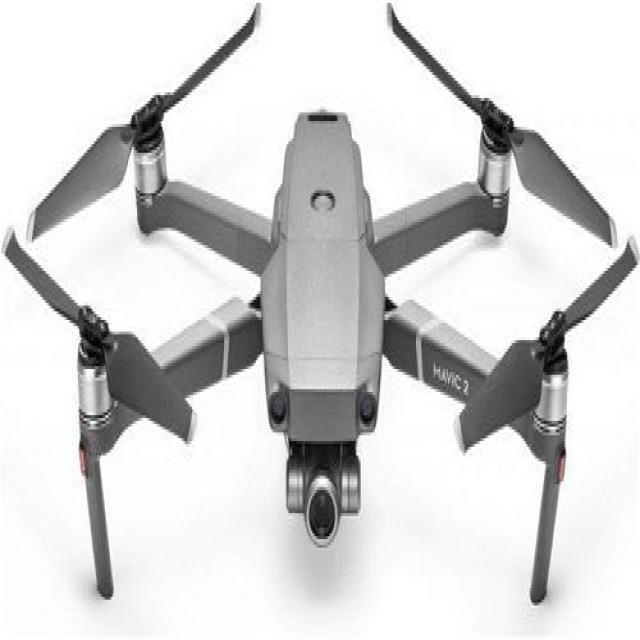drone: (14, 43, 626, 536)
